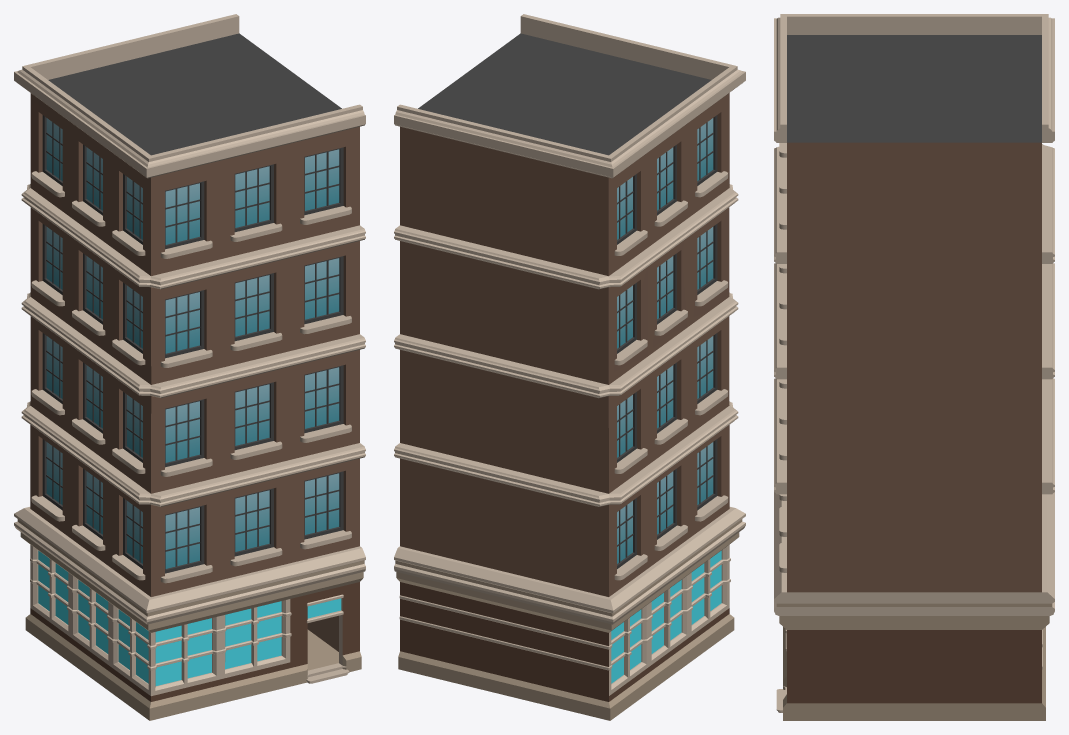
Rendered from SM_Buildings_House_06_V3.fbx.
3 renders of one model, left to right at view 1: azimuth 30°, elevation 25°; view 2: azimuth 150°, elevation 25°; view 3: azimuth 270°, elevation 25°, orthographic. The views are drawn at different scales.
Parts seen in each view (by area): view 1: SM_Buildings_House_06_V3; view 2: SM_Buildings_House_06_V3; view 3: SM_Buildings_House_06_V3.
Boxes of the visible parts, box(x1,y1,x2,y2) form: SM_Buildings_House_06_V3: box(14, 14, 365, 720); SM_Buildings_House_06_V3: box(394, 14, 745, 720); SM_Buildings_House_06_V3: box(774, 14, 1054, 720).
Bounding box in the file's own units: 10.5 × 25.78 × 11.
